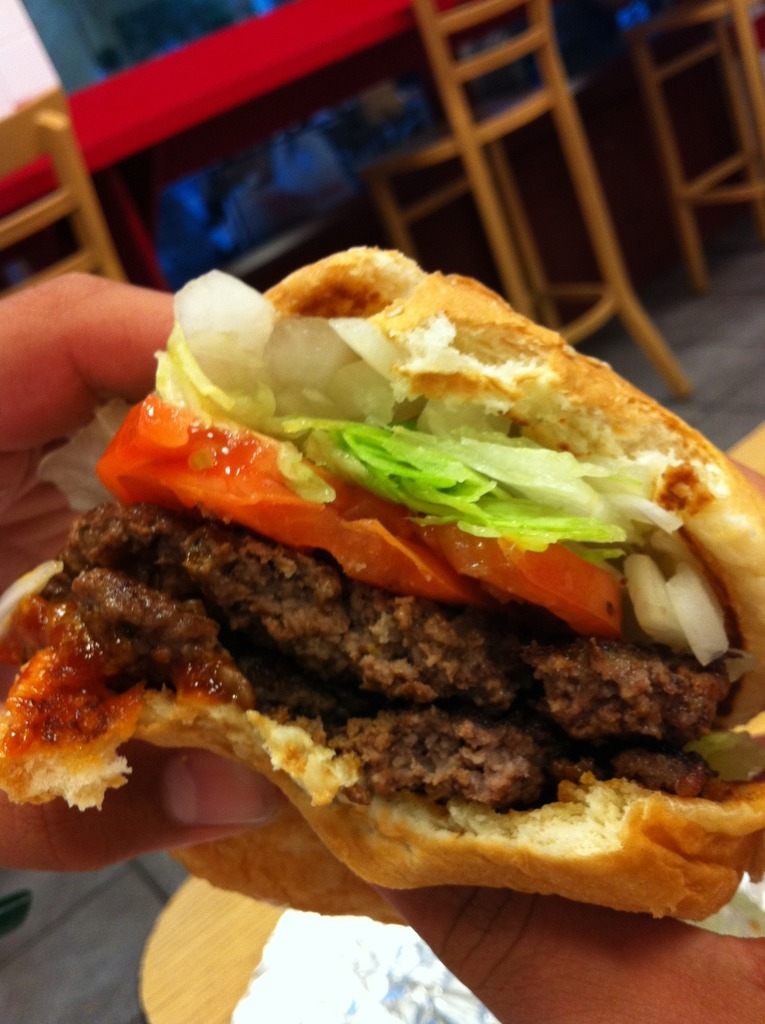Hamburger: (0, 230, 764, 916)
